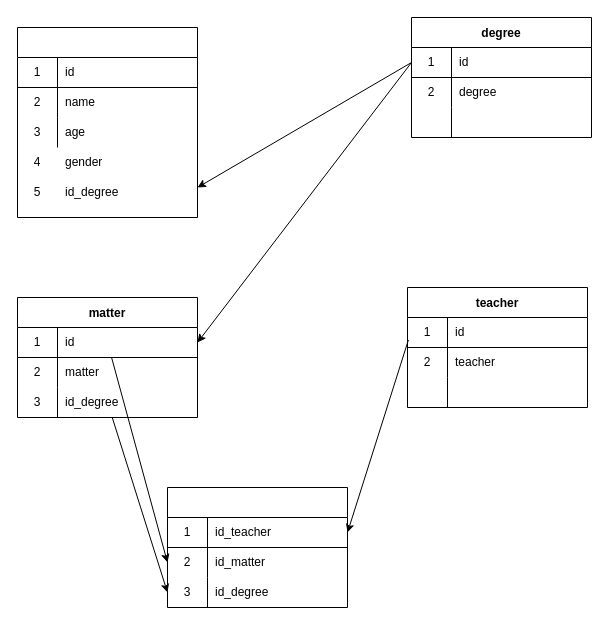
The diagram is 609 pixels wide and 625 high, and some of its shapes have lost their labels. Here are the shapes that lost their labels. From the top down, the box of each, then its label:
(16, 26, 198, 218): student
(166, 486, 348, 608): teacher_has_matter
